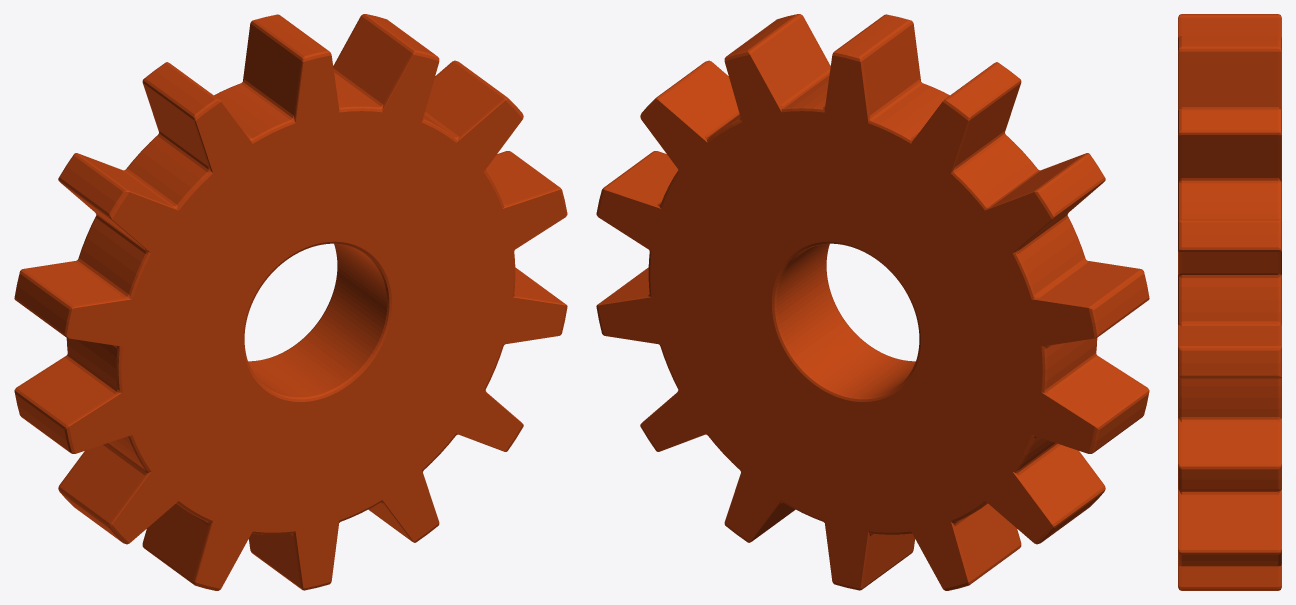
The model's file is ingranaggio.glb.
3 views of the same model, side by side, from view 1: azimuth 30°, elevation 25°; view 2: azimuth 150°, elevation 25°; view 3: azimuth 270°, elevation 25° (orthographic). The views are drawn at different scales.
Parts seen in each view (by area): view 1: Ingranaggio; view 2: Ingranaggio; view 3: Ingranaggio.
Boxes of the visible parts, box(x1,y1,x2,y2) form: Ingranaggio: box(14, 14, 567, 590); Ingranaggio: box(596, 14, 1149, 590); Ingranaggio: box(1178, 14, 1281, 590).
Bounding box in the file's own units: 1.97 × 2 × 0.36.
